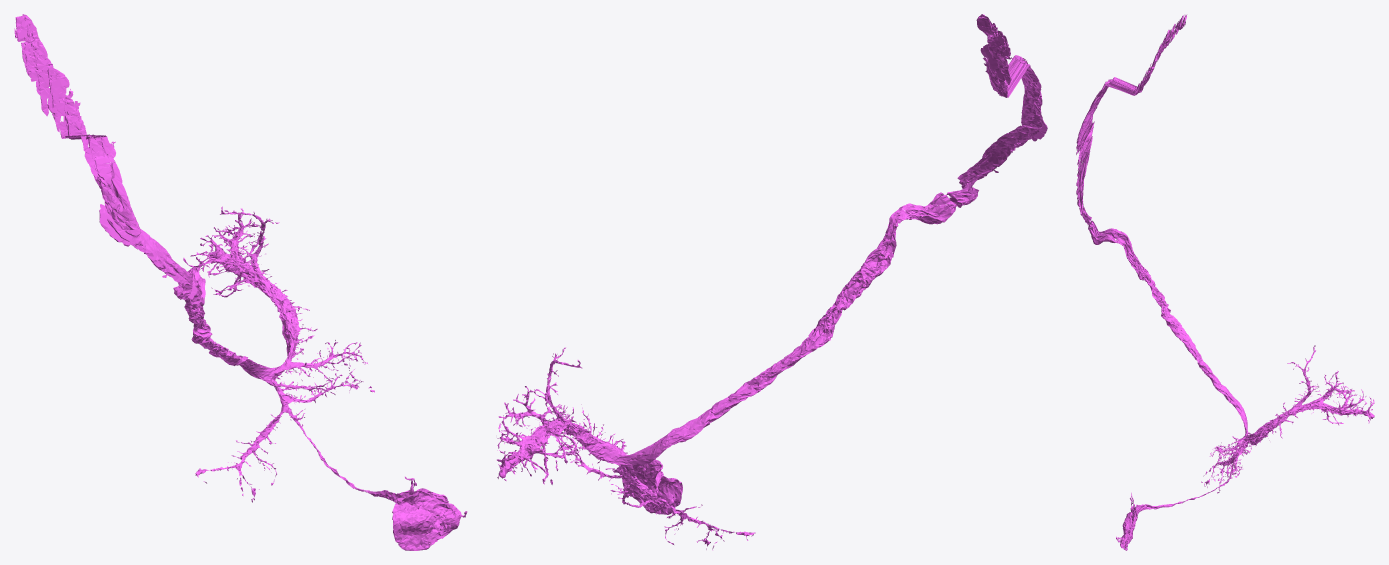
Rendered from VFB_fw036980.glb.
The picture shows the model from 3 angles, left to right: view 1: azimuth 30°, elevation 25°; view 2: azimuth 150°, elevation 25°; view 3: azimuth 270°, elevation 25°; orthographic projection. The views are drawn at different scales.
Parts seen in each view (by area): view 1: VFB_fw036980; view 2: VFB_fw036980; view 3: VFB_fw036980.
Part boxes in pixels (box(x1,y1,x2,y2)): VFB_fw036980: box(14, 14, 467, 550); VFB_fw036980: box(497, 14, 1047, 550); VFB_fw036980: box(1076, 14, 1374, 550).
Bounding box in the file's own units: 0.1585 × 0.2207 × 0.1446.
